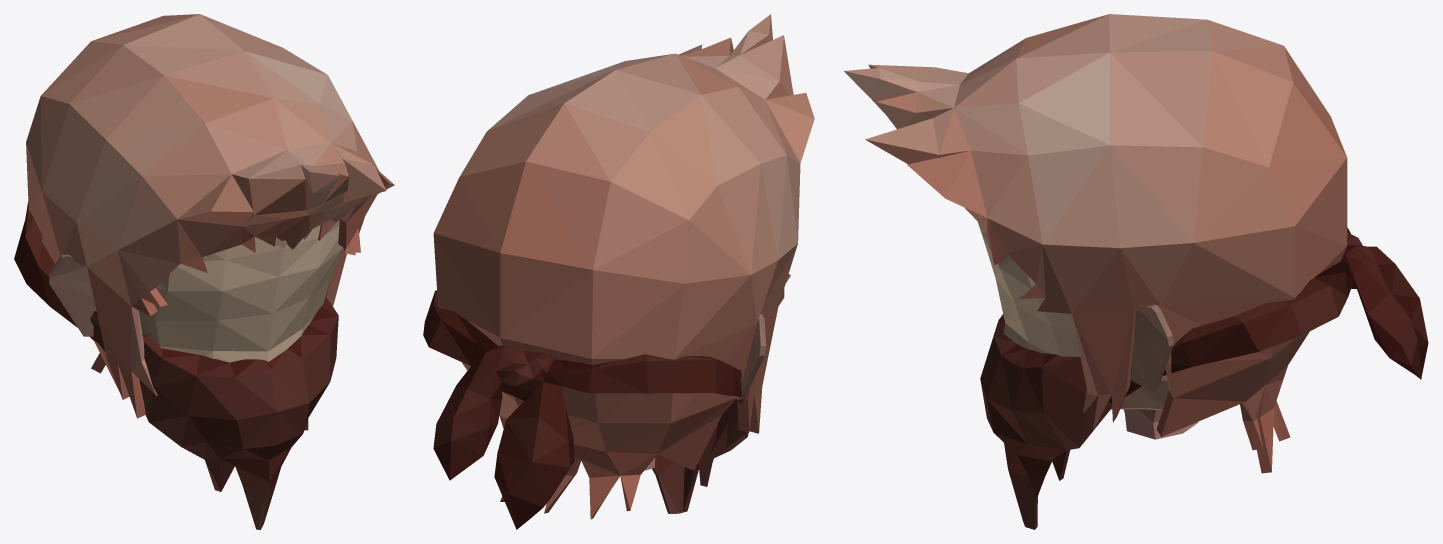
File: helm_lightskin_standard_blonde_bandana.fbx
3 renders of one model, left to right at view 1: azimuth 30°, elevation 25°; view 2: azimuth 150°, elevation 25°; view 3: azimuth 270°, elevation 25°, orthographic. The views are drawn at different scales.
Parts seen in each view (by area): view 1: helm_lightskin_standard_blonde_bandana; view 2: helm_lightskin_standard_blonde_bandana; view 3: helm_lightskin_standard_blonde_bandana.
Boxes of the visible parts, x1,y1,x2,y2 form: helm_lightskin_standard_blonde_bandana: [14, 14, 394, 529]; helm_lightskin_standard_blonde_bandana: [423, 14, 814, 529]; helm_lightskin_standard_blonde_bandana: [844, 14, 1428, 529].
Size of the model in its own units: 1.13 by 1.66 by 1.8.
